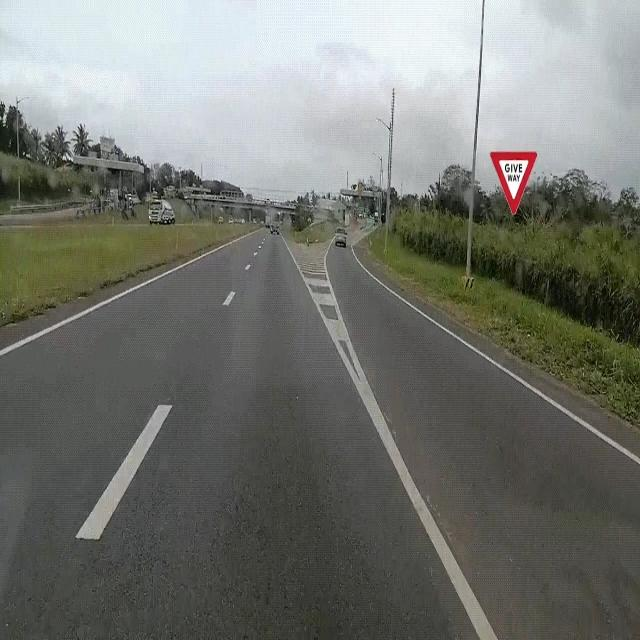Ceder-le-Passage: (487, 142, 539, 220)
